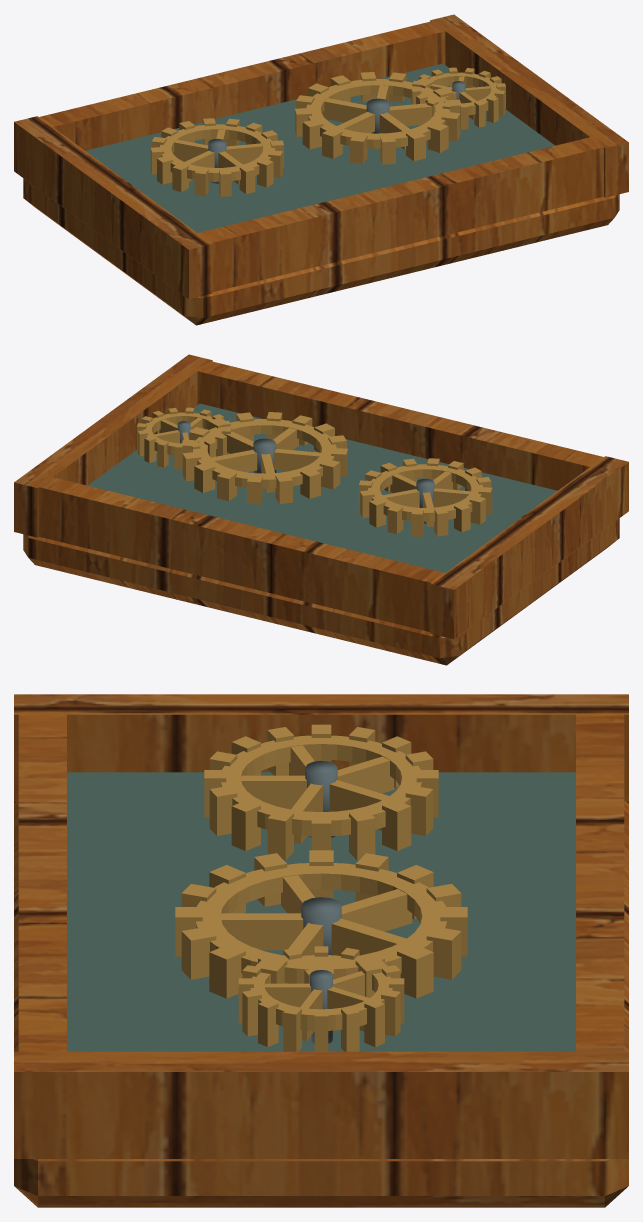
3 renders of one model, top to bottom at view 1: azimuth 30°, elevation 25°; view 2: azimuth 150°, elevation 25°; view 3: azimuth 270°, elevation 25°, orthographic. The views are drawn at different scales.
Visible parts, largest first — view 1: clockshop_walnut, loose_wheels, clockshop_felt; view 2: clockshop_walnut, loose_wheels, clockshop_felt; view 3: clockshop_walnut, clockshop_felt, loose_wheels.
Part boxes in pixels (x1,y1,x2,y2): clockshop_walnut: (14,14,628,325); loose_wheels: (150,67,505,196); clockshop_felt: (85,63,554,232); clockshop_walnut: (14,354,628,665); loose_wheels: (137,407,492,536); clockshop_felt: (88,403,557,572); clockshop_walnut: (14,694,628,1207); clockshop_felt: (67,772,575,1051); loose_wheels: (175,724,467,1051).
Bounding box in the file's own units: 0.93 × 0.2 × 0.64.
Materials: 4 (1 with a texture image).
